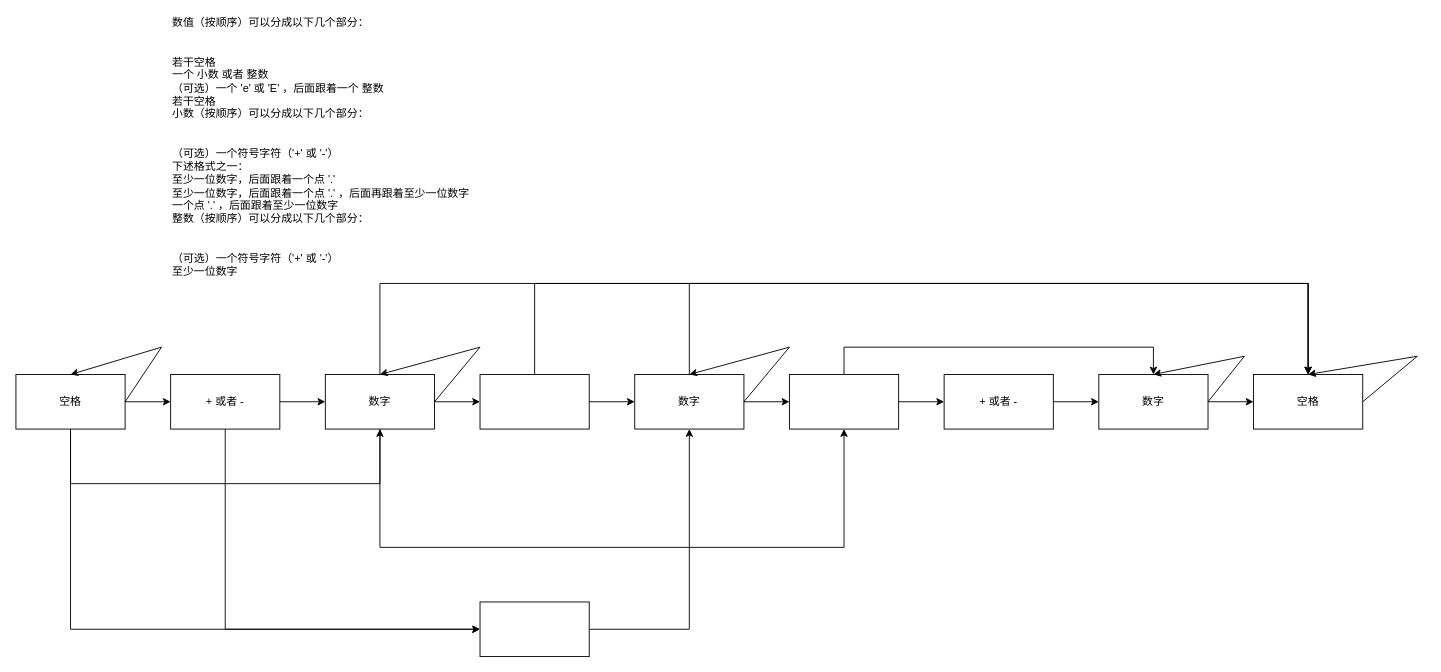
Image size: 1441x672. Some labels were removed from this diagram. The centre of each missing label's shape, as x and y in pixels:
"e 或者 e" belongs at (844,401).
"小数点" belongs at (534,401).
"小数点 前无数字" belongs at (534,629).
